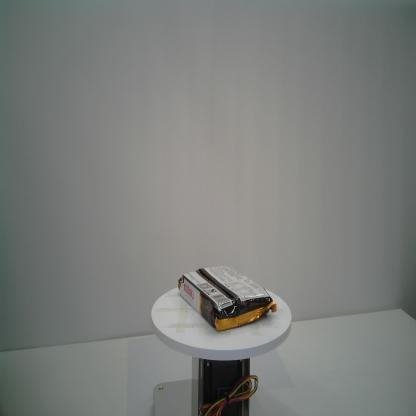Dessert: (177, 262, 278, 334)
